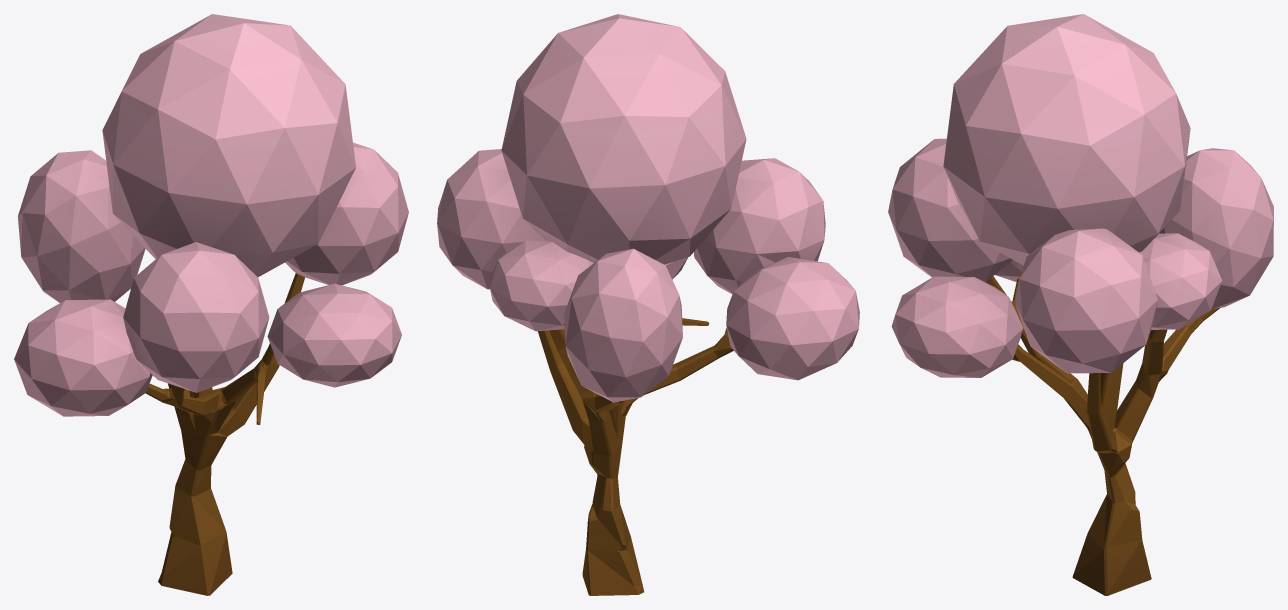
Rendered from tree_cluster.glb.
3 renders of one model, left to right at view 1: azimuth 30°, elevation 25°; view 2: azimuth 150°, elevation 25°; view 3: azimuth 270°, elevation 25°, orthographic. The views are drawn at different scales.
Visible parts, largest first — view 1: Tree_10_AA; view 2: Tree_10_AA; view 3: Tree_10_AA.
Boxes of the visible parts, box(x1,y1,x2,y2) form: Tree_10_AA: box(14, 14, 408, 595); Tree_10_AA: box(437, 14, 859, 595); Tree_10_AA: box(888, 14, 1273, 595).
Bounding box in the file's own units: 2.3 × 3.13 × 1.94.
Materials: 1 (1 with a texture image).
